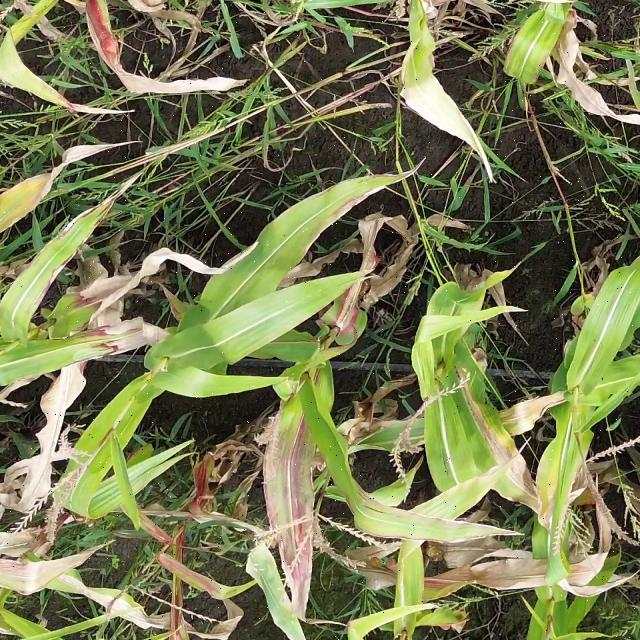northern-leaf-blight: (447, 357, 515, 477), (49, 196, 107, 277)
